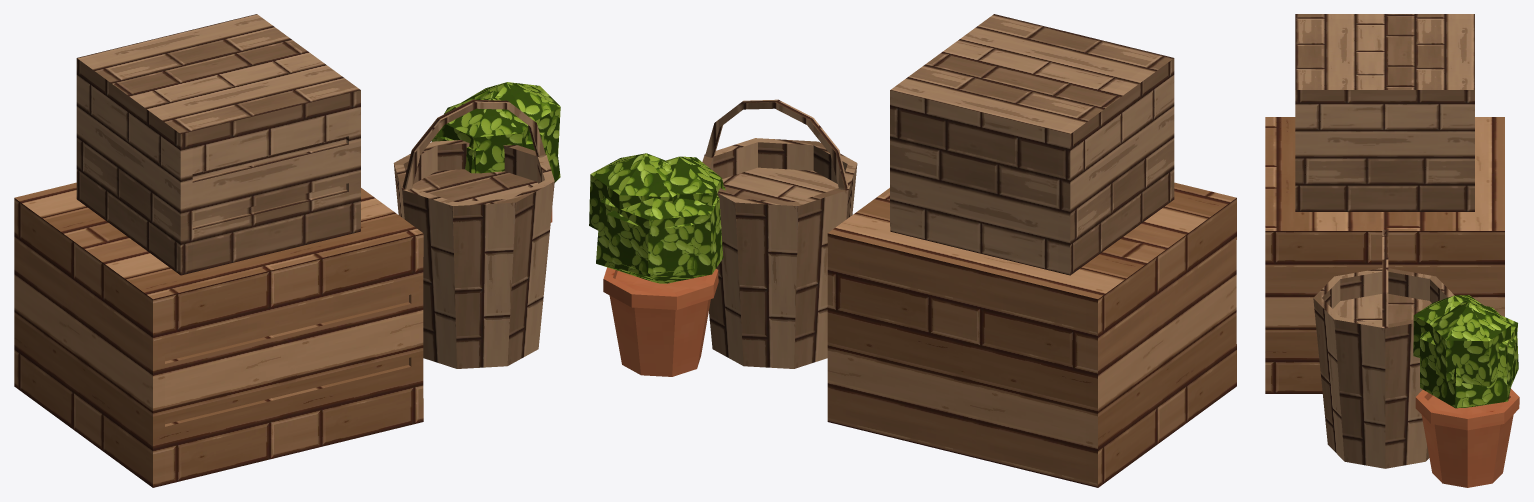
Rendered from crate_pile.glb.
The picture shows the model from 3 angles, left to right: view 1: azimuth 30°, elevation 25°; view 2: azimuth 150°, elevation 25°; view 3: azimuth 270°, elevation 25°; orthographic projection. The views are drawn at different scales.
Parts seen in each view (by area): view 1: crate_pile_crate_big, crate_pile_crate_small, crate_pile_barrel, crate_pile_pot; view 2: crate_pile_crate_big, crate_pile_crate_small, crate_pile_barrel, crate_pile_pot; view 3: crate_pile_crate_small, crate_pile_crate_big, crate_pile_barrel, crate_pile_pot.
Boxes of the visible parts, x1,y1,x2,y2 form: crate_pile_crate_big: (14,182,423,487); crate_pile_crate_small: (76,14,360,275); crate_pile_barrel: (393,99,554,368); crate_pile_pot: (431,82,560,222); crate_pile_crate_big: (827,182,1236,487); crate_pile_crate_small: (890,14,1174,275); crate_pile_barrel: (702,99,857,368); crate_pile_pot: (589,153,725,376); crate_pile_crate_small: (1295,14,1474,211); crate_pile_crate_big: (1265,117,1504,393); crate_pile_barrel: (1313,230,1454,468); crate_pile_pot: (1413,295,1519,487).
Bounding box in the file's own units: 1.72 × 1.05 × 0.8482.
4 materials, 4 textured.
